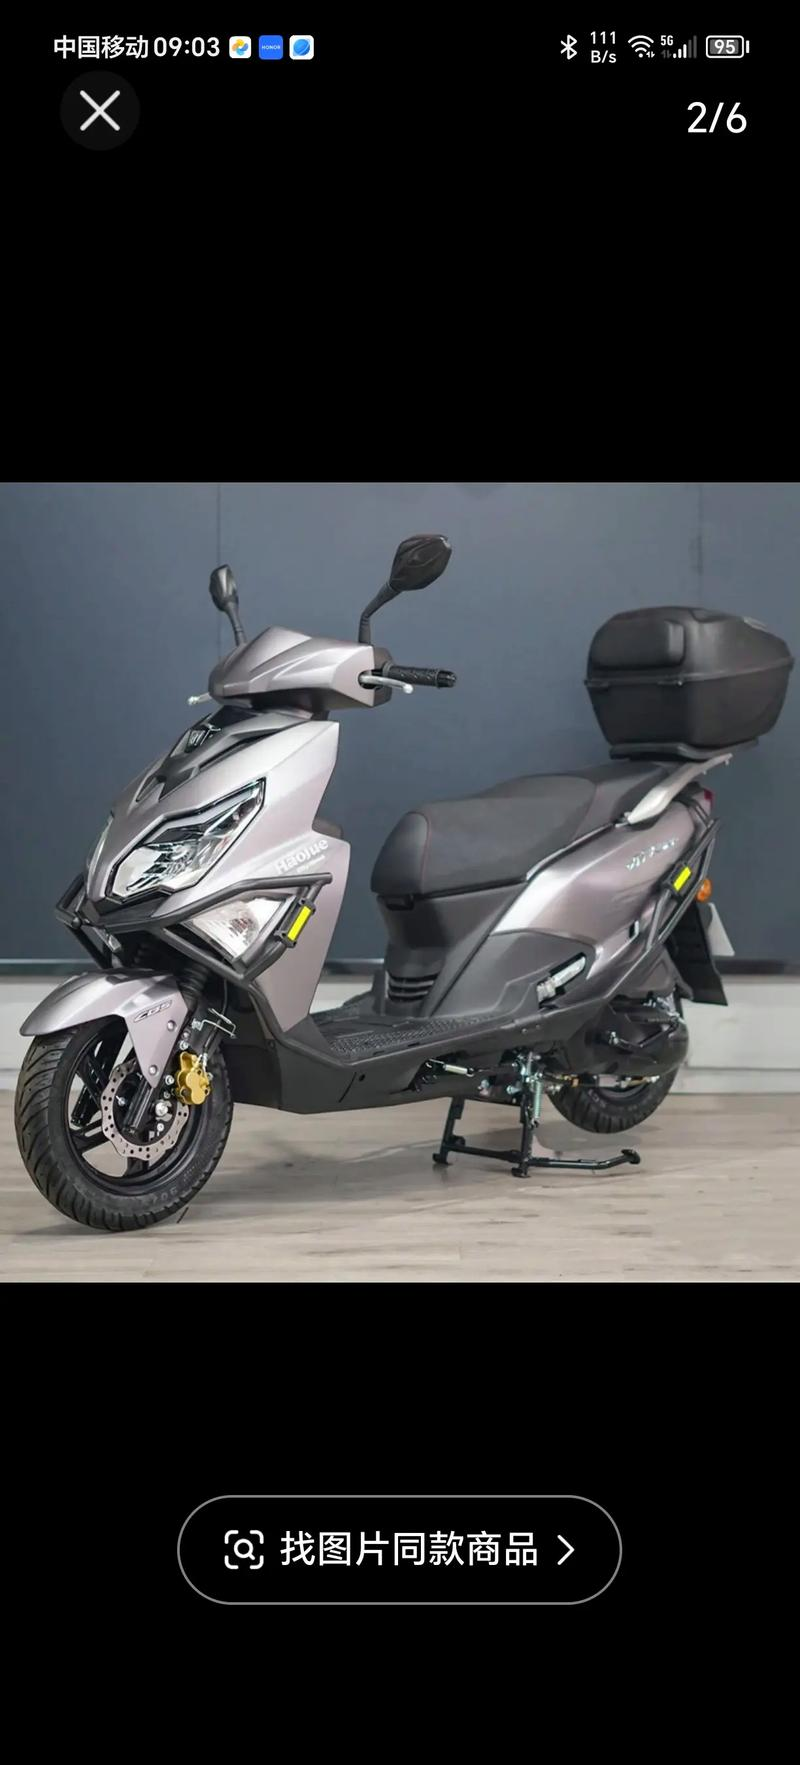摩托车: (15, 527, 772, 1226)
